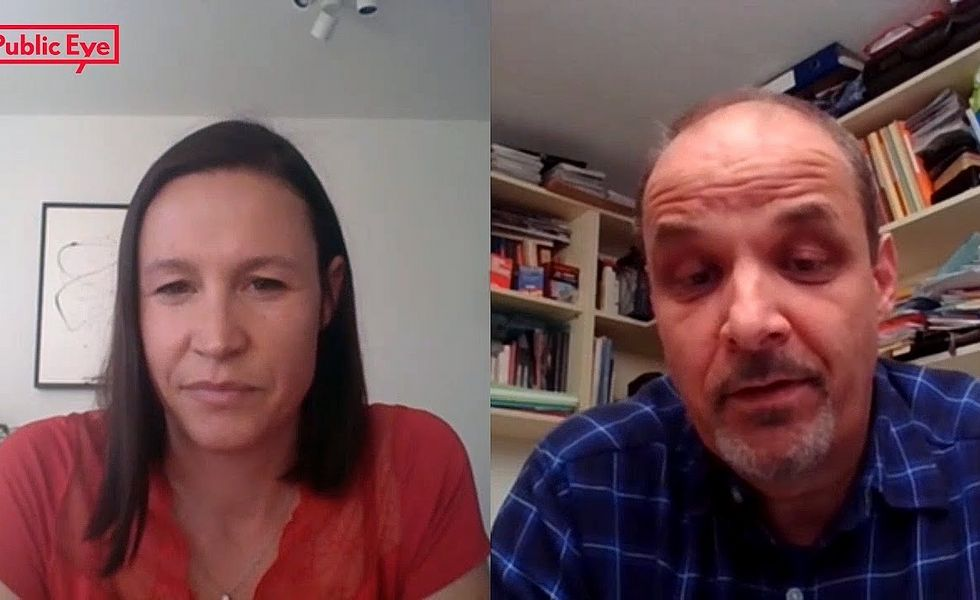without_mask: (688, 183, 848, 419), (148, 241, 303, 412)
